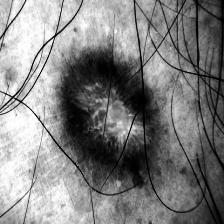Benign Marking or Mole: (60, 52, 162, 172)
